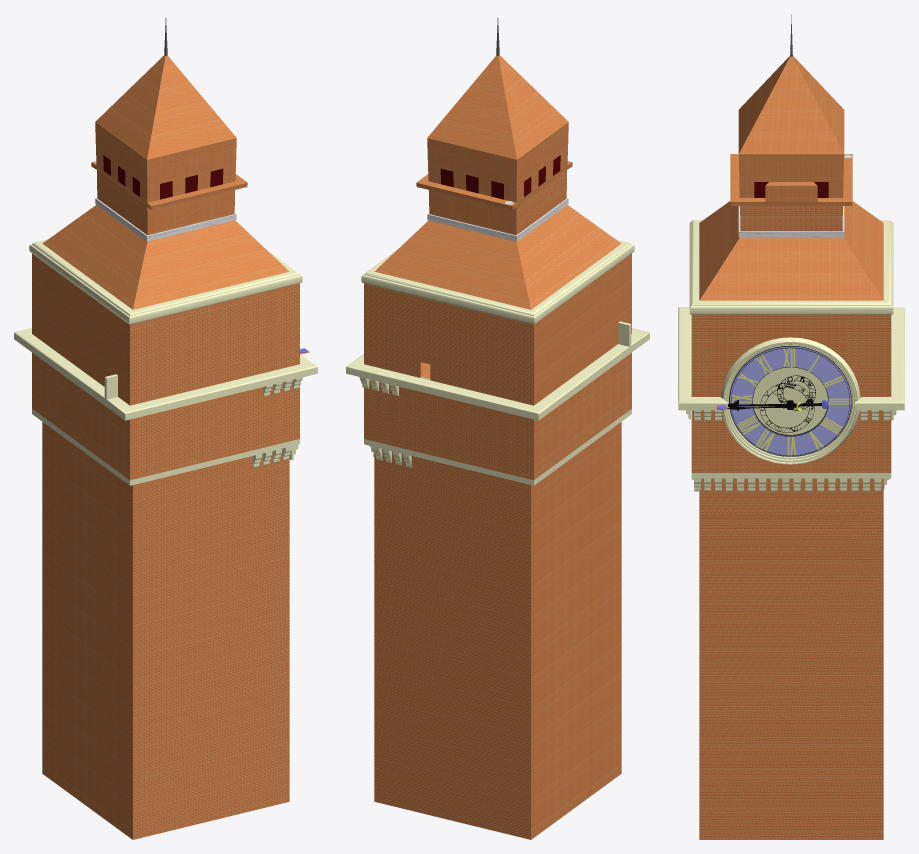
Rendered from tooou.fbx.
The picture shows the model from 3 angles, left to right: view 1: azimuth 30°, elevation 25°; view 2: azimuth 150°, elevation 25°; view 3: azimuth 270°, elevation 25°; orthographic projection.
Visible parts, largest first — view 1: polySurface412; view 2: polySurface412; view 3: polySurface412, polySurface378.
Boxes of the visible parts, bbox=[...] form: polySurface412: bbox=[14, 18, 317, 839]; polySurface412: bbox=[346, 18, 649, 839]; polySurface412: bbox=[678, 14, 904, 839]; polySurface378: bbox=[720, 337, 860, 464].
Size of the model in its own units: 25.19 by 91.66 by 23.89.
17 materials, 3 textured.
